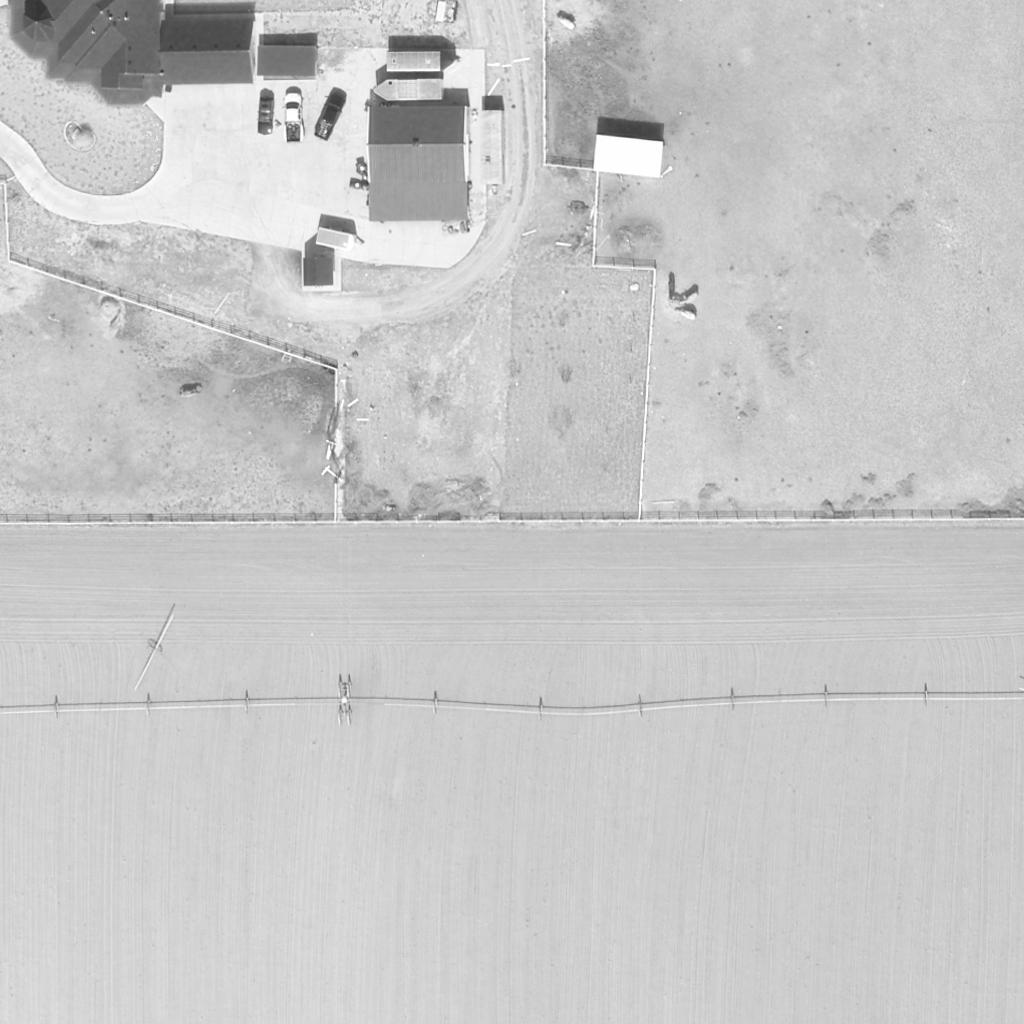vehicle: (313, 93, 347, 143), (285, 92, 303, 146), (257, 97, 275, 135)
